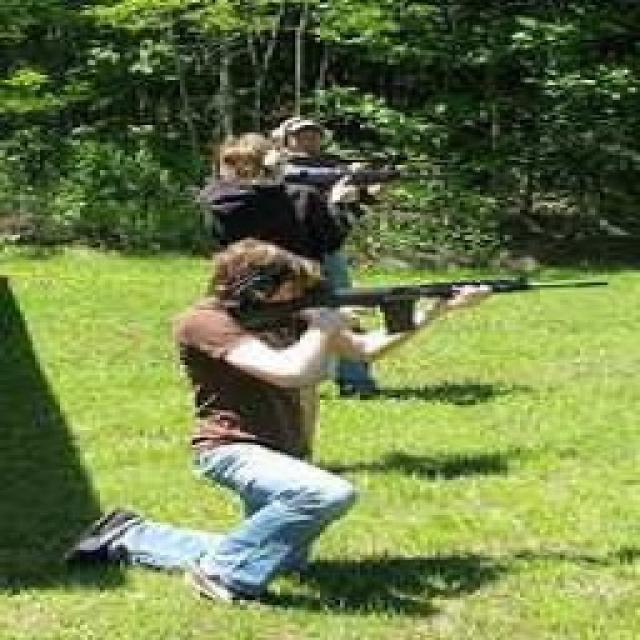long weapon: (224, 251, 602, 354), (312, 146, 480, 198)
